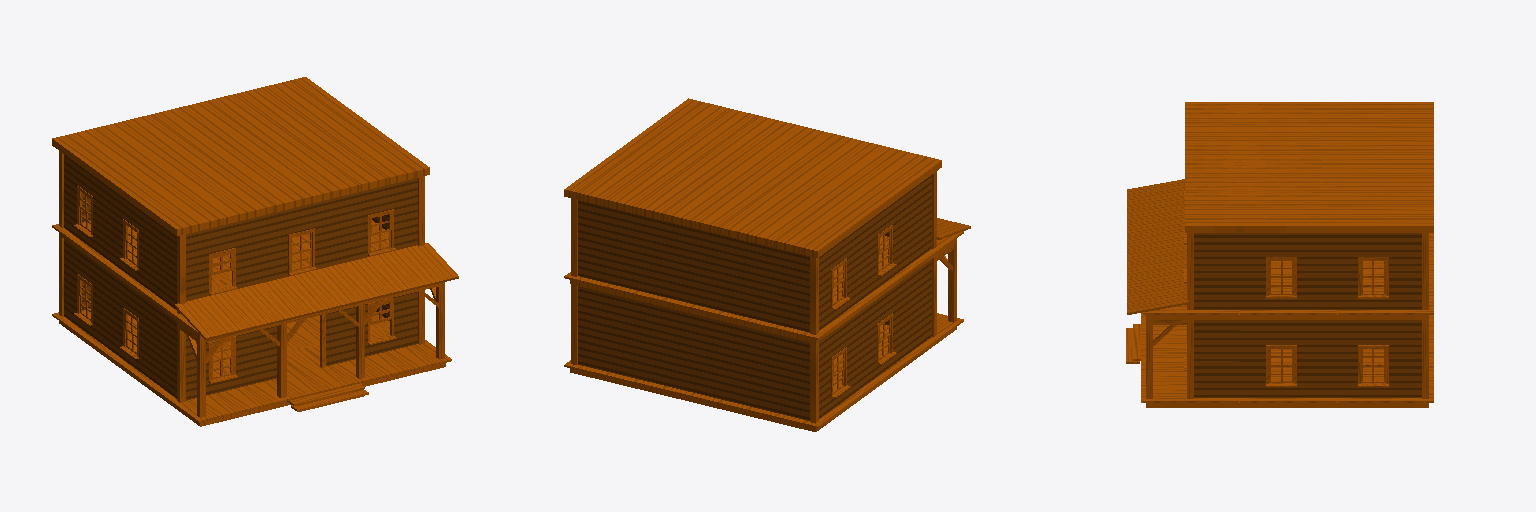
3 renders of one model, left to right at view 1: azimuth 30°, elevation 25°; view 2: azimuth 150°, elevation 25°; view 3: azimuth 270°, elevation 25°, orthographic.
Visible parts, largest first — view 1: Cube.001_Cube.002; view 2: Cube.001_Cube.002; view 3: Cube.001_Cube.002.
Part boxes in pixels (x1,y1,x2,y2): Cube.001_Cube.002: (52, 77, 458, 426); Cube.001_Cube.002: (564, 98, 970, 431); Cube.001_Cube.002: (1126, 102, 1433, 407).
Size of the model in its own units: 6 by 4.16 by 6.32.
1 materials, 1 textured.